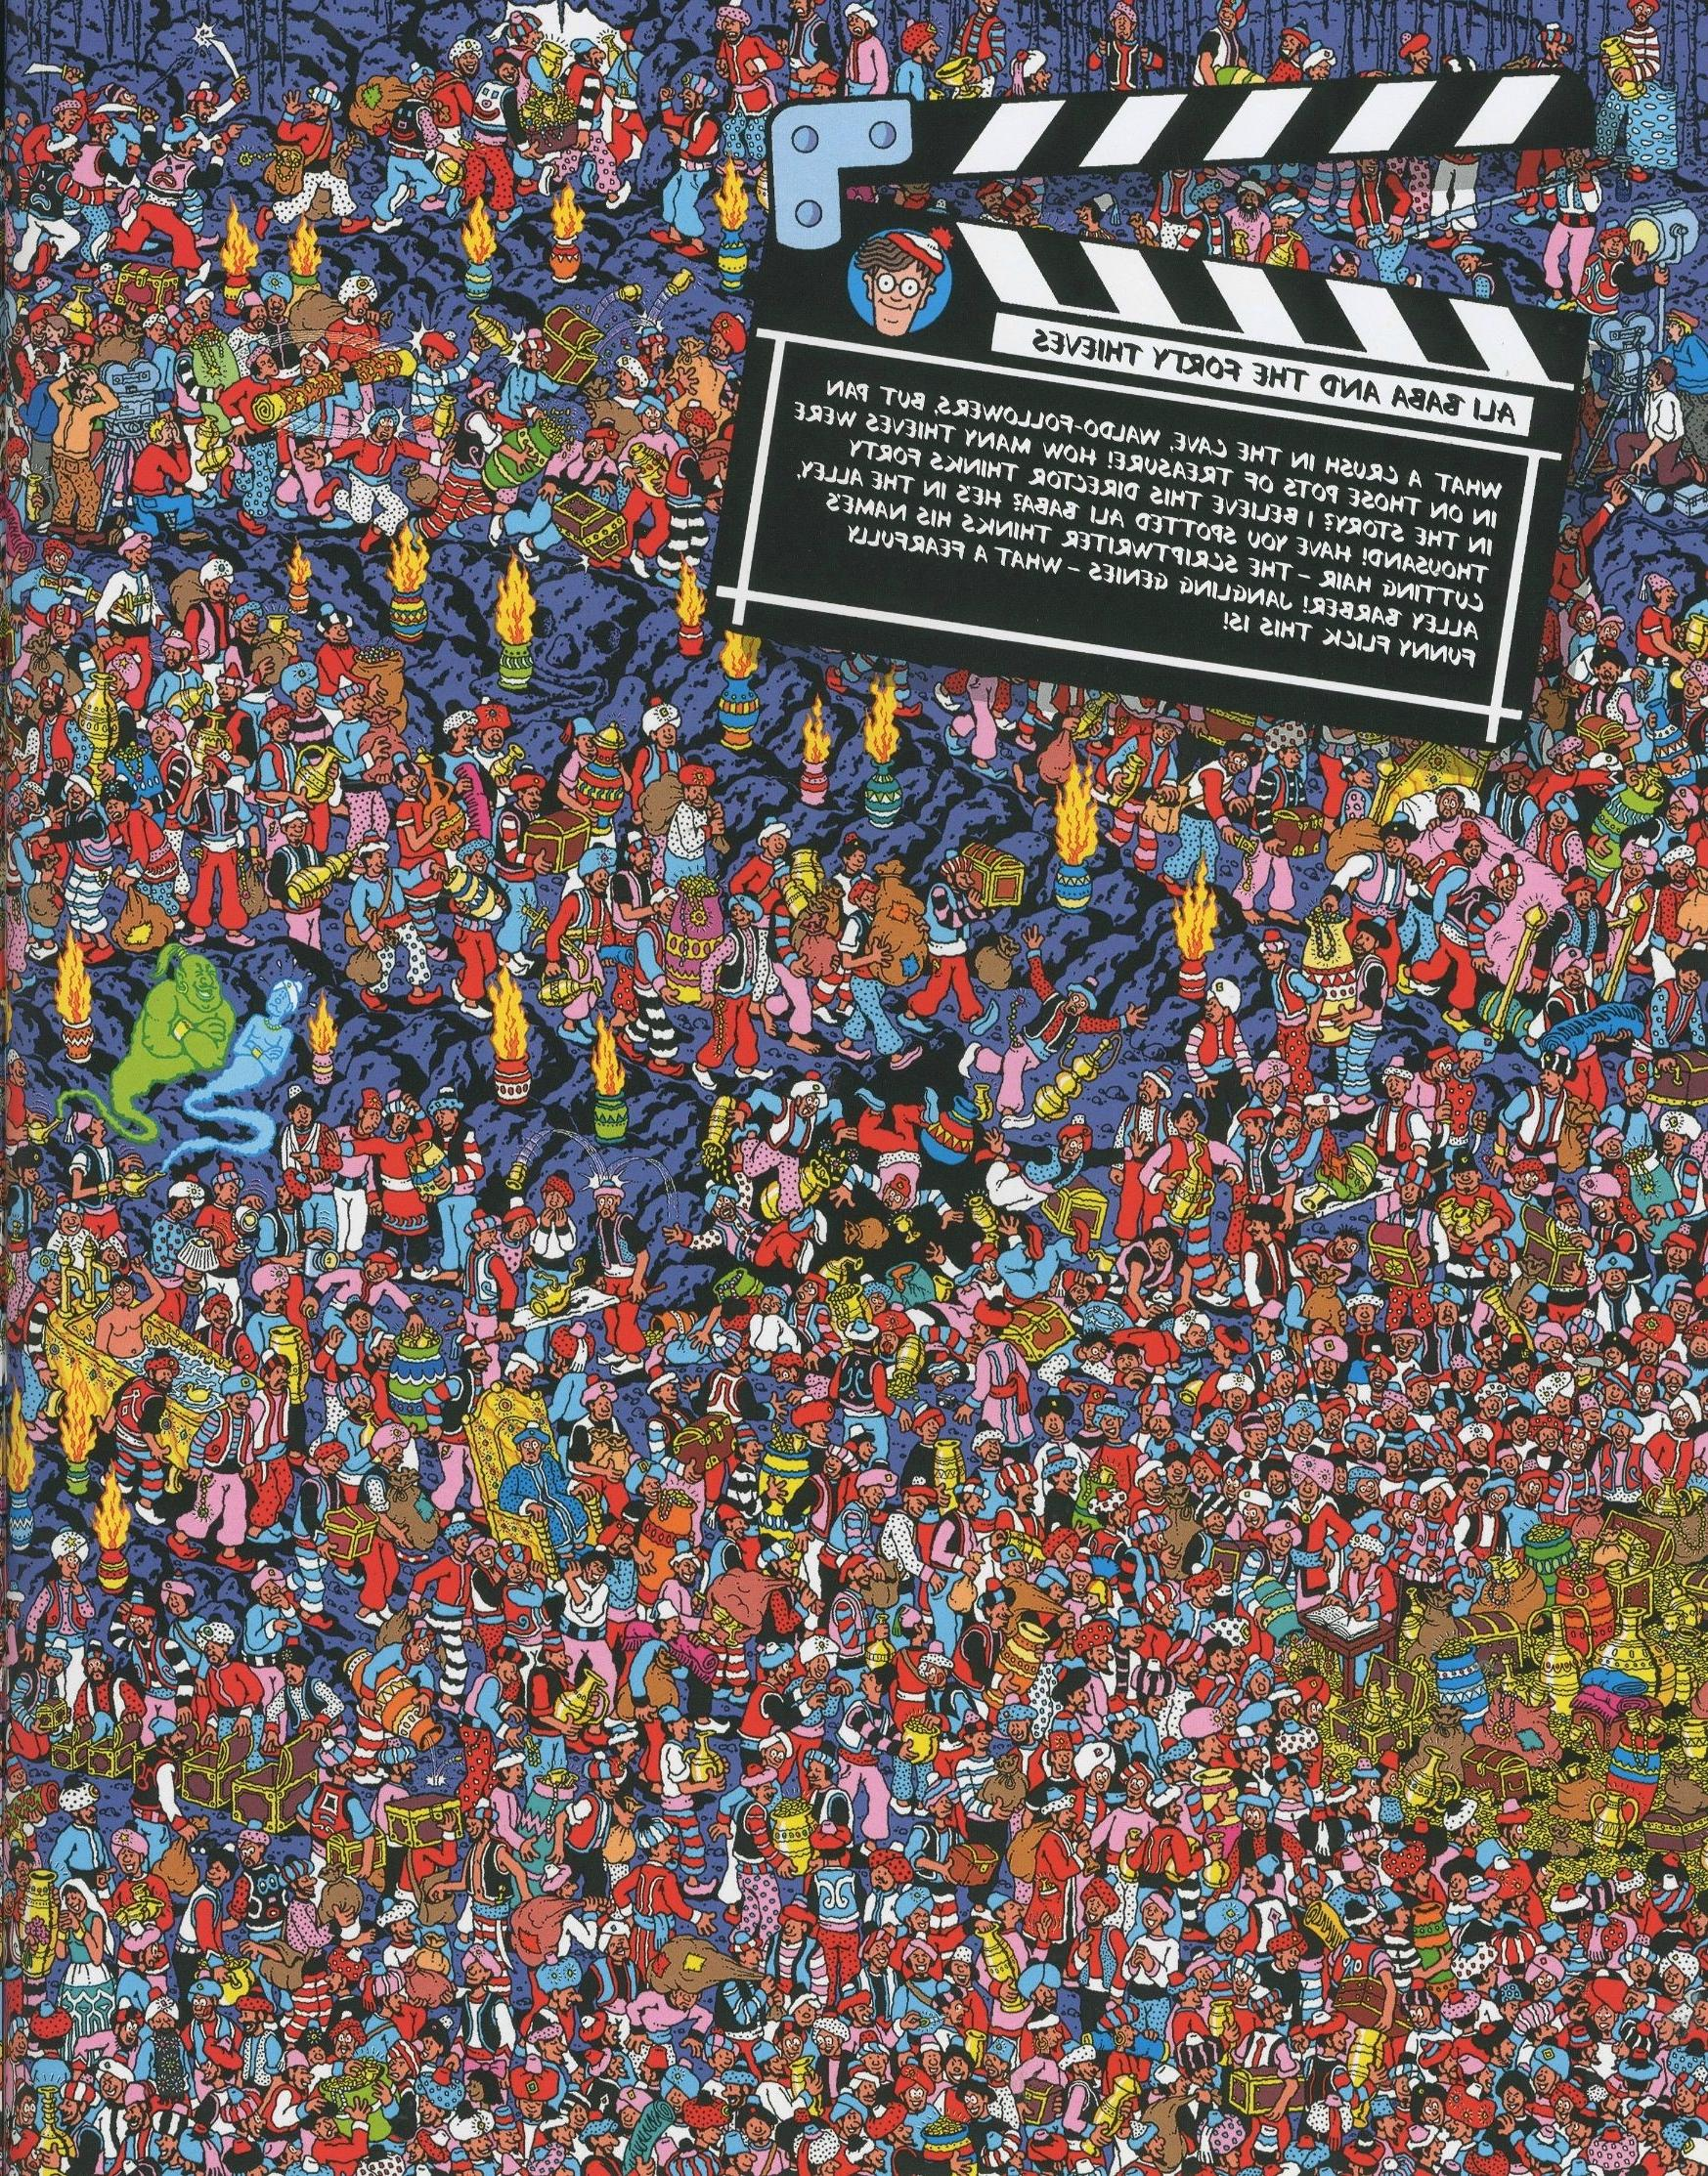waldos: (851, 217, 961, 341)
